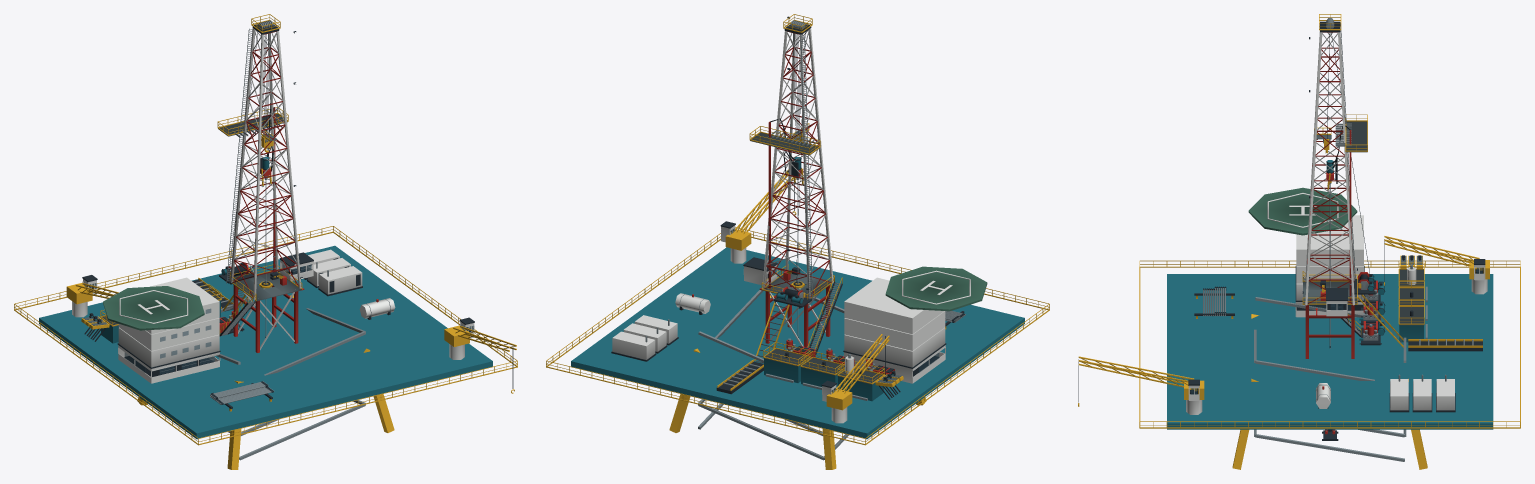
Rendered from platform_modular_lodl.glb.
The picture shows the model from 3 angles, left to right: view 1: azimuth 30°, elevation 25°; view 2: azimuth 150°, elevation 25°; view 3: azimuth 270°, elevation 25°; orthographic projection. The views are drawn at different scales.
Visible parts, largest first — view 1: platform_deck_surface_blue, accommodation_surface_white, derrick_surface_white, deck_handrails_surface_yellow, helideck_surface_green, derrick_surface_red, jacket_surface_steel, generators_surface_white, substructure_surface_red, jacket_surface_yellow, drill_floor_surface_deck, deck_crane_1_surface_yellow (+6 smaller); view 2: platform_deck_surface_blue, accommodation_surface_white, derrick_surface_white, deck_handrails_surface_yellow, helideck_surface_green, derrick_surface_red, generators_surface_white, mud_tanks_surface_blue, jacket_surface_steel, mud_tanks_surface_yellow, deck_crane_2_surface_yellow, mud_tanks_surface_deck (+9 smaller); view 3: platform_deck_surface_blue, deck_handrails_surface_yellow, accommodation_surface_white, helideck_surface_green, derrick_surface_white, jacket_surface_steel, generators_surface_white, derrick_surface_red, deck_crane_1_surface_yellow, mud_tanks_surface_deck, deck_crane_2_surface_yellow, jacket_surface_yellow (+6 smaller).
Boxes of the visible parts, x1=… form: platform_deck_surface_blue: x1=39, y1=245, x2=492, y2=439; accommodation_surface_white: x1=118, y1=277, x2=220, y2=383; derrick_surface_white: x1=230, y1=28, x2=301, y2=300; deck_handrails_surface_yellow: x1=14, y1=226, x2=517, y2=445; helideck_surface_green: x1=103, y1=286, x2=204, y2=330; derrick_surface_red: x1=232, y1=31, x2=298, y2=296; jacket_surface_steel: x1=216, y1=281, x2=365, y2=460; generators_surface_white: x1=308, y1=249, x2=362, y2=294; substructure_surface_red: x1=233, y1=285, x2=298, y2=352; jacket_surface_yellow: x1=137, y1=295, x2=394, y2=469; drill_floor_surface_deck: x1=234, y1=272, x2=301, y2=301; deck_crane_1_surface_yellow: x1=444, y1=325, x2=516, y2=393; platform_deck_surface_blue: x1=571, y1=247, x2=1024, y2=439; accommodation_surface_white: x1=843, y1=277, x2=945, y2=383; derrick_surface_white: x1=762, y1=28, x2=833, y2=298; deck_handrails_surface_yellow: x1=546, y1=227, x2=1049, y2=445; helideck_surface_green: x1=885, y1=266, x2=987, y2=311; derrick_surface_red: x1=764, y1=31, x2=831, y2=297; generators_surface_white: x1=612, y1=315, x2=677, y2=359; mud_tanks_surface_blue: x1=764, y1=358, x2=883, y2=401; jacket_surface_steel: x1=698, y1=287, x2=848, y2=460; mud_tanks_surface_yellow: x1=763, y1=342, x2=884, y2=384; deck_crane_2_surface_yellow: x1=826, y1=334, x2=889, y2=410; mud_tanks_surface_deck: x1=764, y1=349, x2=882, y2=384; platform_deck_surface_blue: x1=1167, y1=274, x2=1493, y2=429; deck_handrails_surface_yellow: x1=1139, y1=260, x2=1520, y2=428; accommodation_surface_white: x1=1295, y1=215, x2=1364, y2=317; helideck_surface_green: x1=1248, y1=187, x2=1357, y2=235; derrick_surface_white: x1=1305, y1=31, x2=1354, y2=305; jacket_surface_steel: x1=1254, y1=297, x2=1406, y2=461; generators_surface_white: x1=1390, y1=379, x2=1454, y2=410; derrick_surface_red: x1=1307, y1=32, x2=1354, y2=303; deck_crane_1_surface_yellow: x1=1078, y1=356, x2=1204, y2=406; mud_tanks_surface_deck: x1=1399, y1=269, x2=1423, y2=325; deck_crane_2_surface_yellow: x1=1384, y1=236, x2=1489, y2=285; jacket_surface_yellow: x1=1232, y1=314, x2=1427, y2=469.
Bounding box in the file's own units: 58.07 × 66.83 × 65.16.
